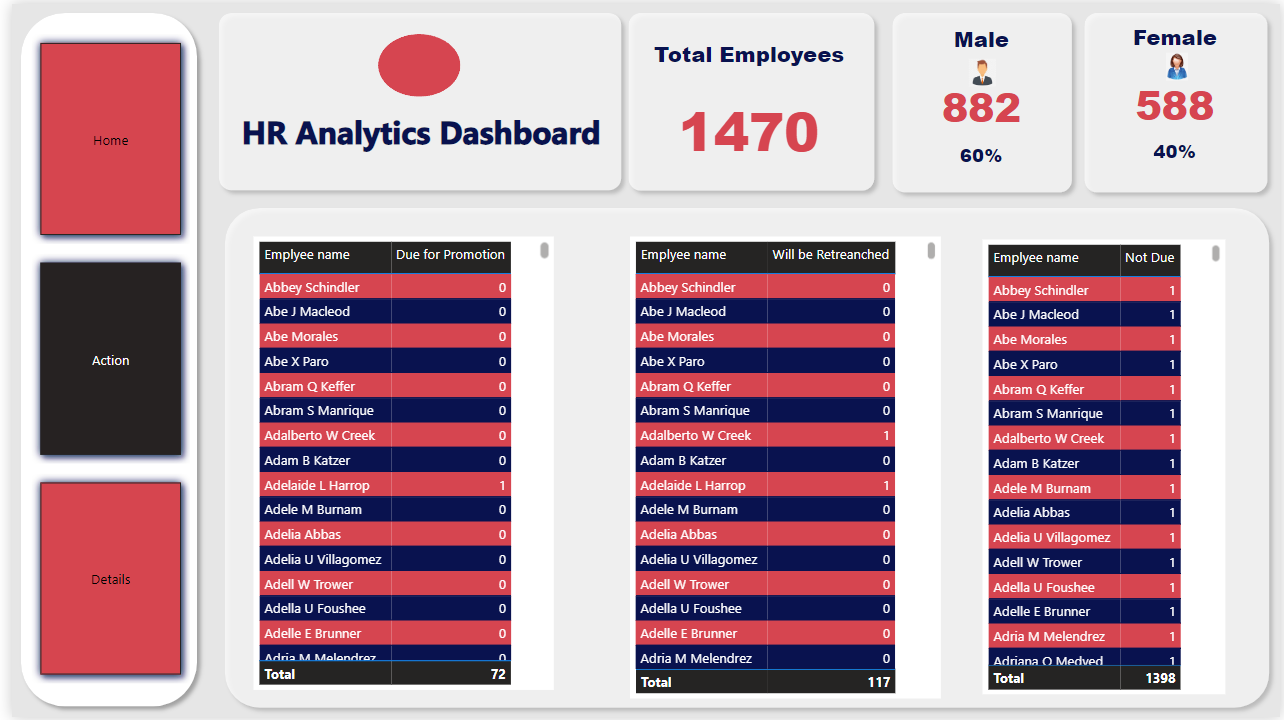

This screenshot's page, from the dashboard's own definition file:
{"tool":"powerbi","page":{"name":"Action ","canvas":[1280,720],"ordinal":1},"visuals":[{"type":"shape","box":[0,0,195.9,718.4],"z":0},{"type":"shape","box":[200.3,0,424.4,197.1],"z":1000},{"type":"shape","box":[614.3,0,266.4,197.5],"z":2000},{"type":"shape","box":[1074.6,0,203,199.3],"z":3000},{"type":"shape","box":[880.7,0,199.3,199.3],"z":4000},{"type":"textbox","box":[212,101.5,402.3,67.1],"z":5000},{"type":"shape","box":[369.7,30.8,83.4,63.4],"z":6000},{"type":"cardVisual","title":"Total Employees","fields":{"Data":["All Measures.Total Emp"]},"box":[634.3,34.4,219.3,130.5],"z":7000},{"type":"cardVisual","title":"Male","fields":{"Data":["All Measures.Male"]},"box":[907.9,19.9,143.2,114.2],"z":8000},{"type":"cardVisual","title":"Male","fields":{"Data":["All Measures.% Male"]},"box":[907.9,114.2,143.2,61.6],"z":9000},{"type":"cardVisual","title":"Female","fields":{"Data":["All Measures.Female"]},"box":[1103.6,18.1,143.2,114.2],"z":10000},{"type":"cardVisual","title":"Male","fields":{"Data":["All Measures.% Female"]},"box":[1103.6,108.7,143.2,59.8],"z":11000},{"type":"image","box":[955,50.7,50.7,38.1],"z":12000},{"type":"image","box":[1154.4,43.5,45.3,38.1],"z":13000},{"type":"shape","box":[205,472.1,251.1,12.7],"z":14000},{"type":"shape","box":[206.6,197.1,1072.8,522.9],"z":15000},{"type":"tableEx","fields":{"Values":["HR Analytics Data.Emplyee name","All Measures.Due for Promotion"]},"box":[243.5,235,303.6,457.9],"z":16000},{"type":"tableEx","fields":{"Values":["HR Analytics Data.Emplyee name","All Measures.Will be Retreanched"]},"box":[624.3,235,313.9,466.5],"z":17000},{"type":"tableEx","fields":{"Values":["HR Analytics Data.Emplyee name","All Measures.Not Due"]},"box":[981,238.4,245.3,459.6],"z":18000},{"type":"pageNavigator","box":[19.1,30.2,160.5,658],"z":19000}]}

Visuals, with their boxes in screenshot pixels (x1, y1, x2, y2), scaled from the page's 1280x720 canvas onto the 1284x720 screenshot:
shape: [x1=0, y1=0, x2=197, y2=718]
shape: [x1=201, y1=0, x2=627, y2=197]
shape: [x1=616, y1=0, x2=883, y2=198]
shape: [x1=1078, y1=0, x2=1282, y2=199]
shape: [x1=883, y1=0, x2=1083, y2=199]
textbox: [x1=213, y1=102, x2=616, y2=169]
shape: [x1=371, y1=31, x2=455, y2=94]
"Total Employees" cardVisual: [x1=636, y1=34, x2=856, y2=165]
"Male" cardVisual: [x1=911, y1=20, x2=1054, y2=134]
"Male" cardVisual: [x1=911, y1=114, x2=1054, y2=176]
"Female" cardVisual: [x1=1107, y1=18, x2=1251, y2=132]
"Male" cardVisual: [x1=1107, y1=109, x2=1251, y2=168]
image: [x1=958, y1=51, x2=1009, y2=89]
image: [x1=1158, y1=44, x2=1203, y2=82]
shape: [x1=206, y1=472, x2=458, y2=485]
shape: [x1=207, y1=197, x2=1283, y2=719]
tableEx - HR Analytics Data.Emplyee name x All Measures.Due for Promotion: [x1=244, y1=235, x2=549, y2=693]
tableEx - HR Analytics Data.Emplyee name x All Measures.Will be Retreanched: [x1=626, y1=235, x2=941, y2=702]
tableEx - HR Analytics Data.Emplyee name x All Measures.Not Due: [x1=984, y1=238, x2=1230, y2=698]
pageNavigator: [x1=19, y1=30, x2=180, y2=688]
